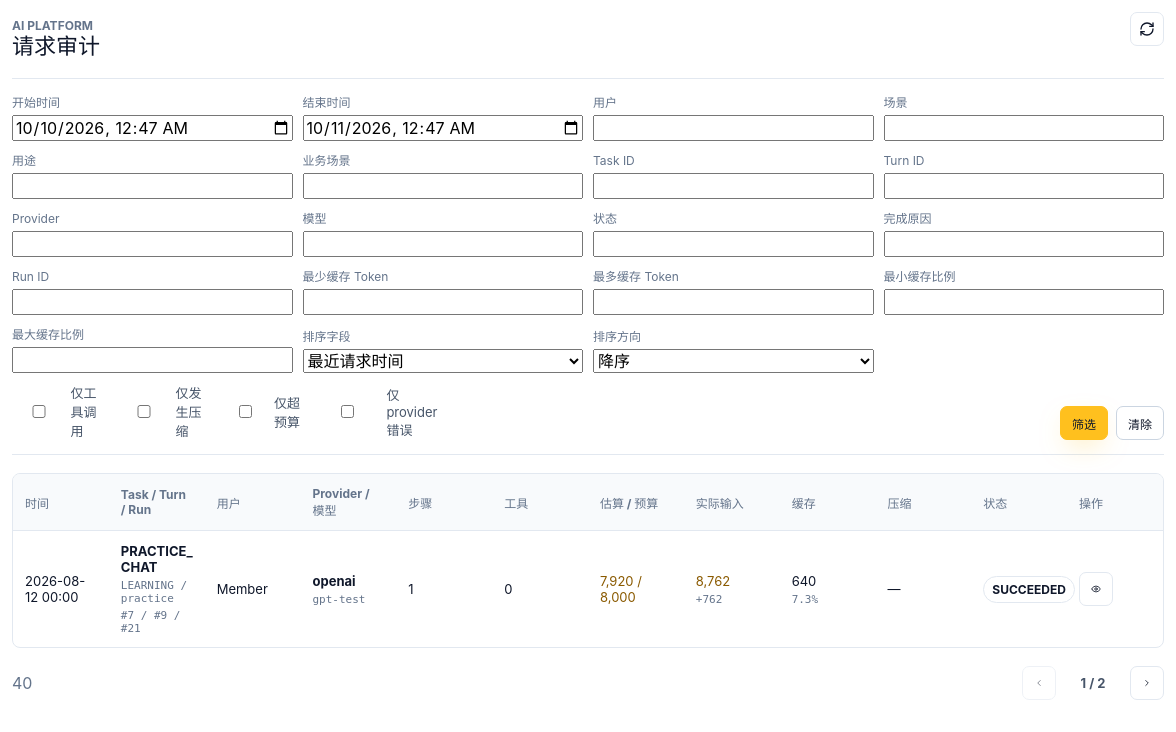
Test: AiAuditPanel › moves through pages without retaining the previous page data
Check: the text "PRACTICE_CHAT" is shown, box [121,543,193,575]
Click the button named "下一页".
click(1147, 683)  # box [1130,666,1164,700]
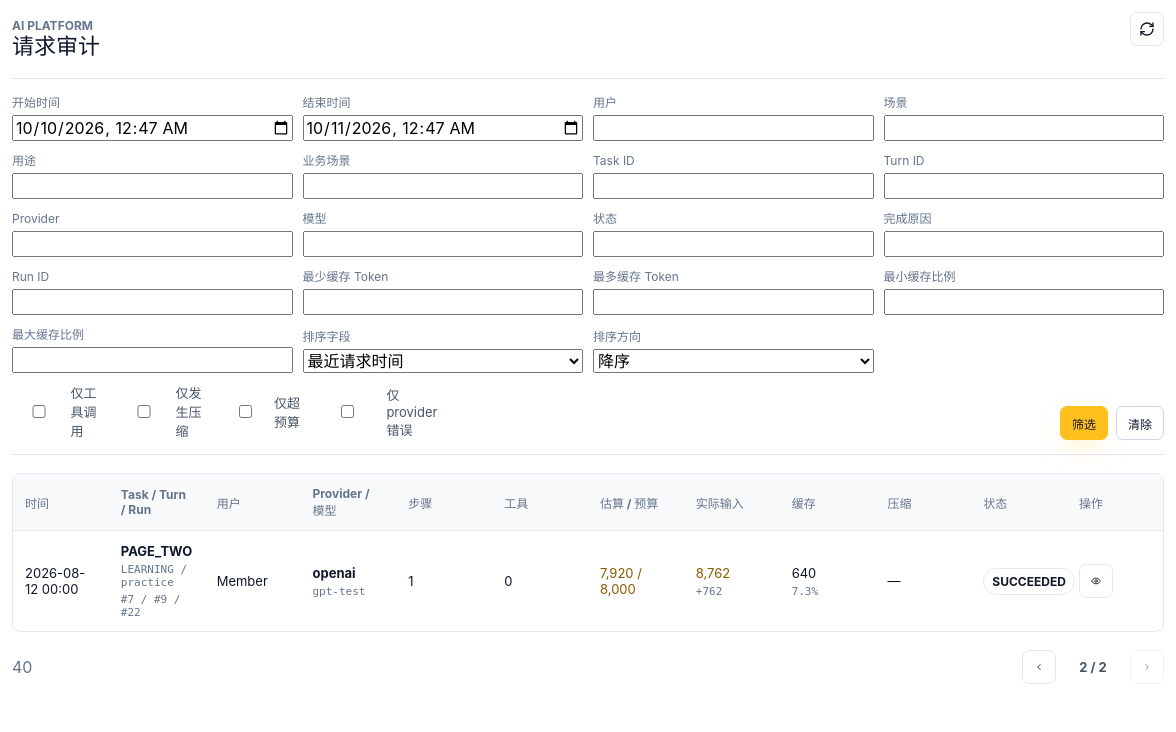
Check: the text "PAGE_TWO" is shown, box [121,543,192,559]
Check: the text "PRACTICE_CHAT" is gone
